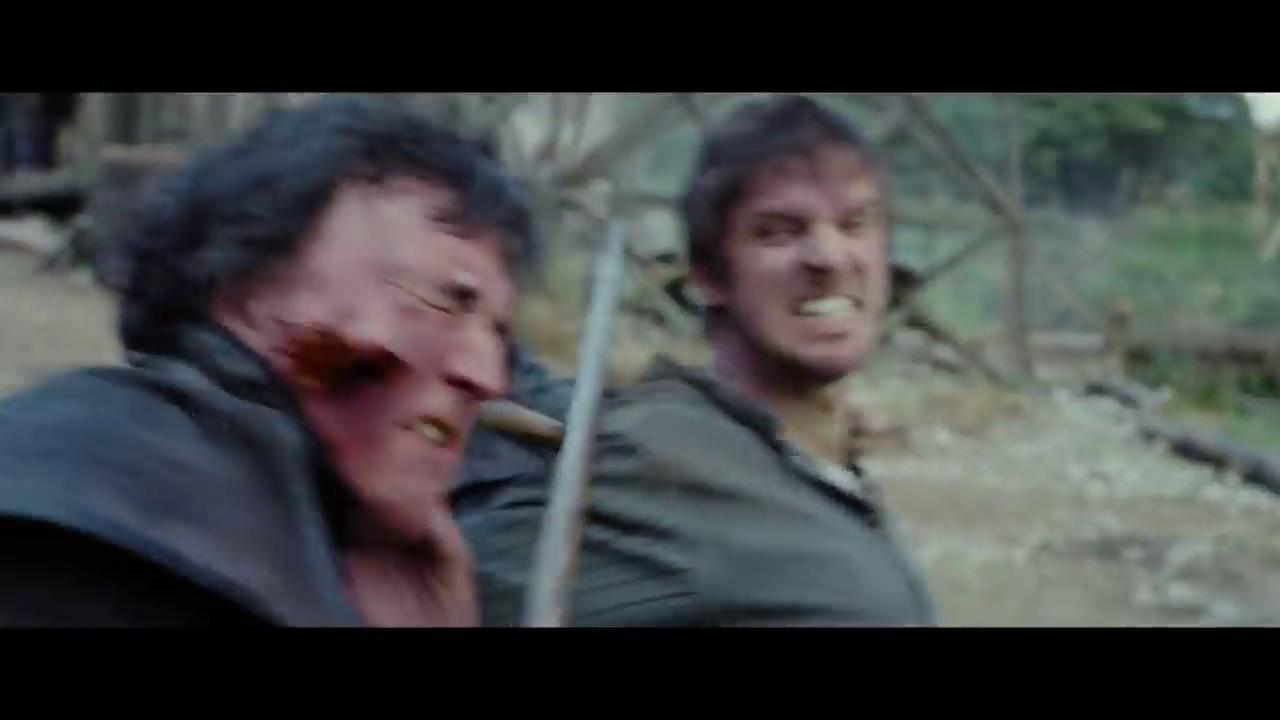Fire: (245, 323, 409, 459)
